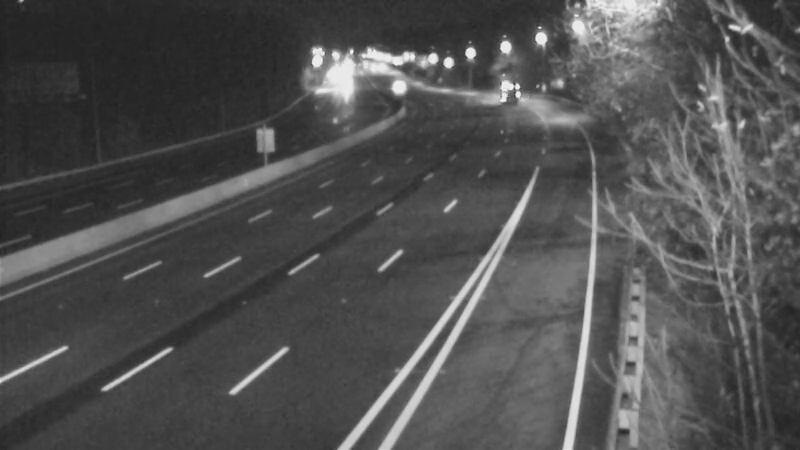vehicle: (371, 59, 421, 109), (477, 65, 527, 115)
